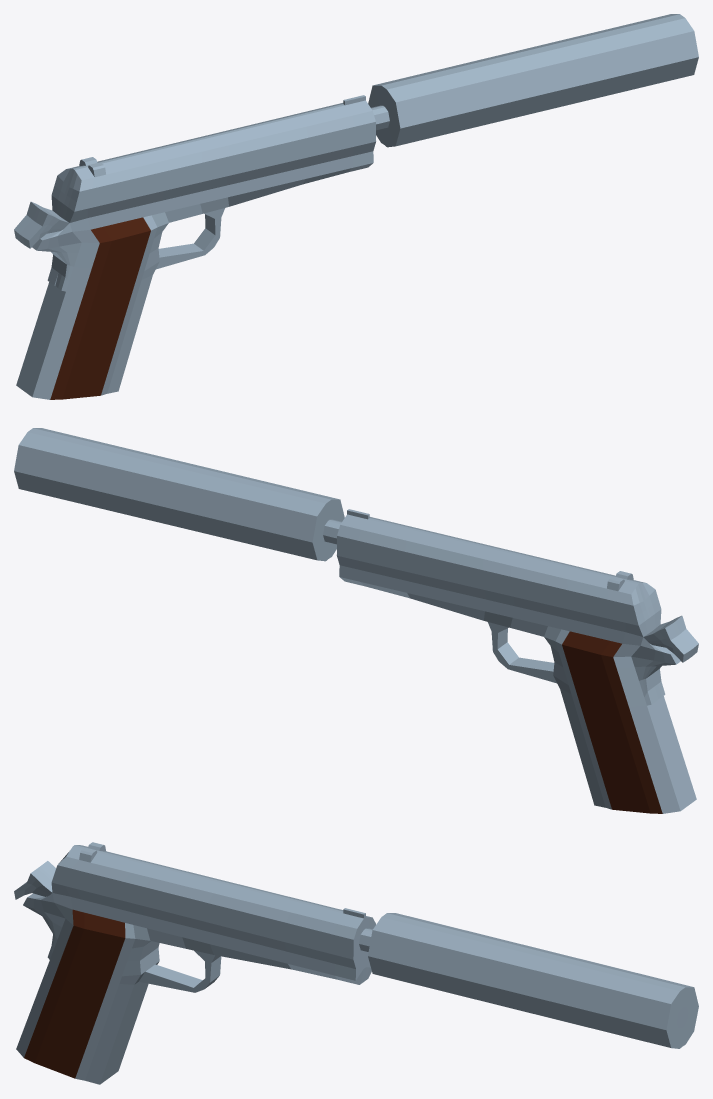
Rendered from Supressed1911.fbx.
The picture shows the model from 3 angles, top to bottom: view 1: azimuth 30°, elevation 25°; view 2: azimuth 150°, elevation 25°; view 3: azimuth 330°, elevation 25°; orthographic projection.
Visible parts, largest first — view 1: Cube; view 2: Cube; view 3: Cube.
Boxes of the visible parts, box(x1,y1,x2,y2) form: Cube: box(14, 14, 698, 399); Cube: box(14, 428, 698, 813); Cube: box(14, 842, 698, 1084).
Bounding box in the file's own units: 741 × 63.14 × 246.
